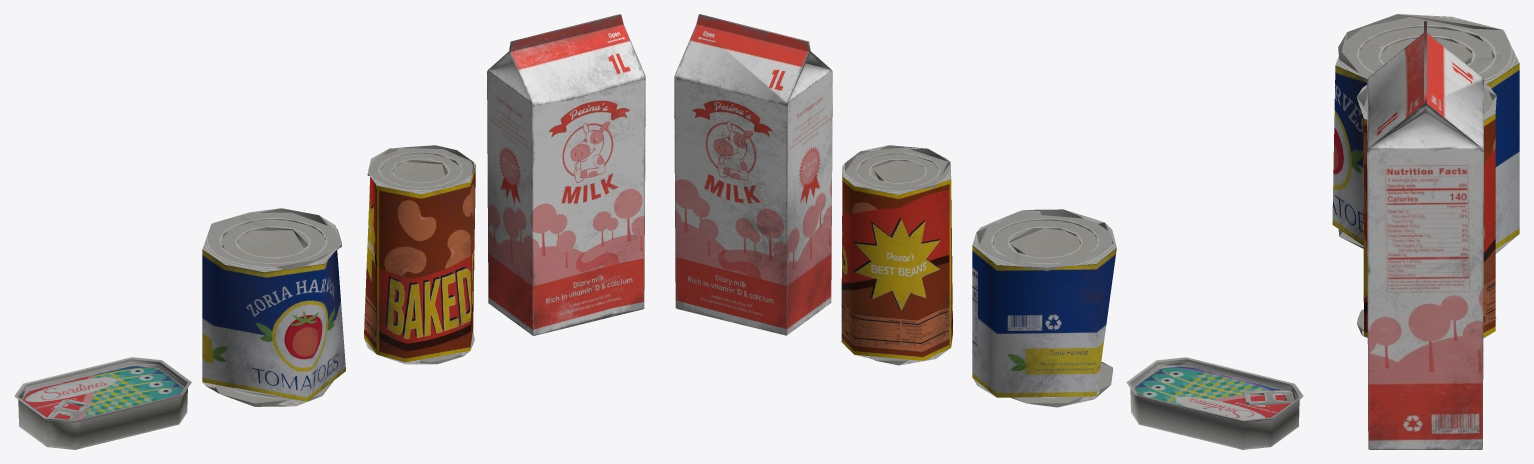
The model's file is long_life_food.glb.
3 renders of one model, left to right at view 1: azimuth 30°, elevation 25°; view 2: azimuth 150°, elevation 25°; view 3: azimuth 270°, elevation 25°, orthographic. The views are drawn at different scales.
Parts seen in each view (by area): view 1: long_life_food_milk; view 2: long_life_food_milk; view 3: long_life_food_milk.
Boxes of the visible parts, left/top/right/bottom form: long_life_food_milk: left=14, top=14, right=645, bottom=449; long_life_food_milk: left=674, top=14, right=1303, bottom=449; long_life_food_milk: left=1332, top=14, right=1519, bottom=449.
Bounding box in the file's own units: 0.5233 × 0.2357 × 0.1108.
1 material, 1 textured.
